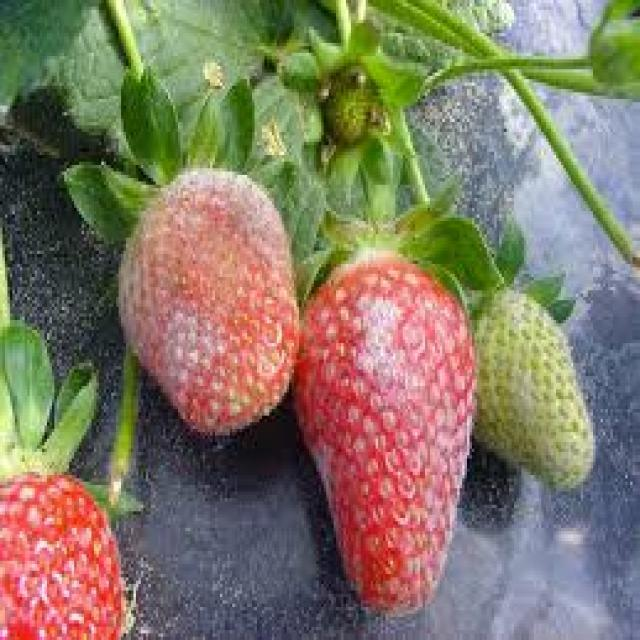Moho gris: (298, 235, 462, 624), (114, 147, 298, 456), (5, 469, 138, 639)
